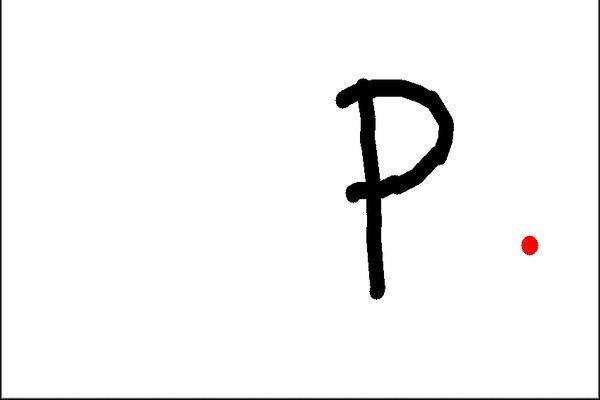P: (321, 65, 467, 302)
